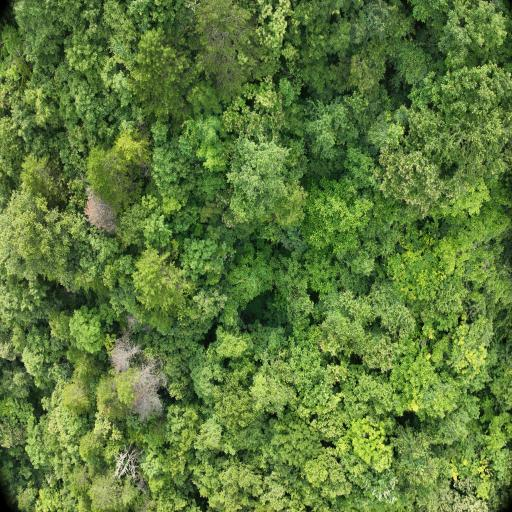dead-tree: (86, 196, 111, 229), (142, 376, 157, 412), (116, 451, 130, 478), (114, 345, 129, 363)
